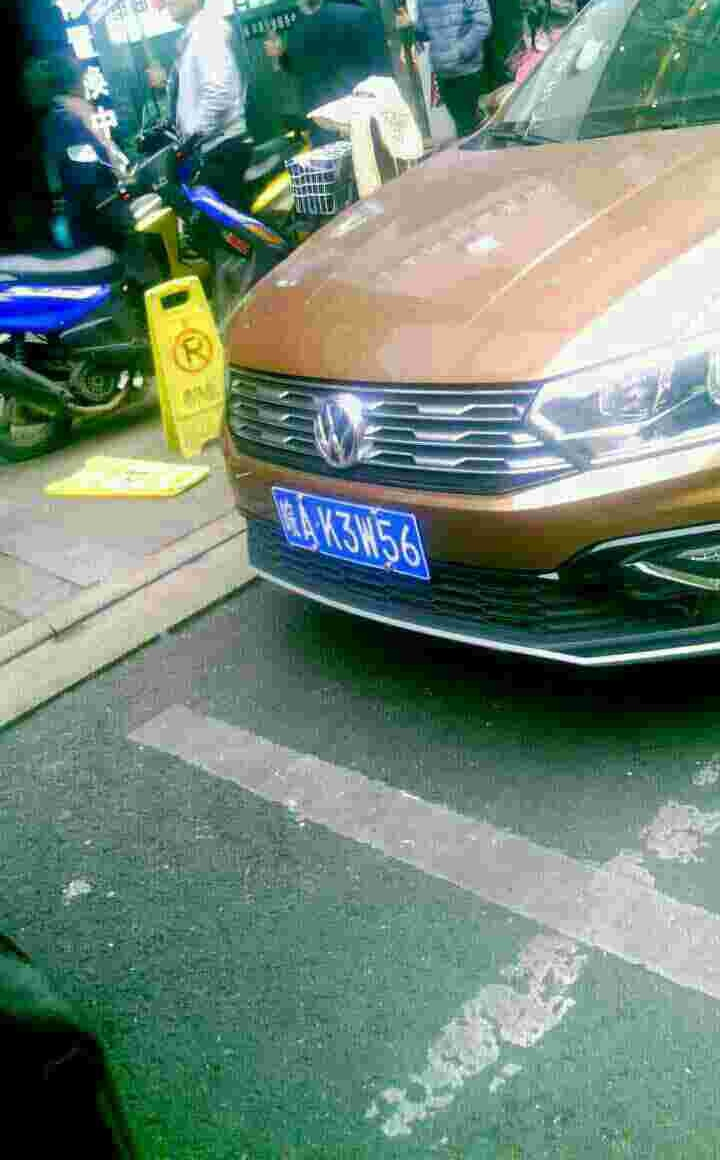license_plate: (275, 497, 429, 573)
